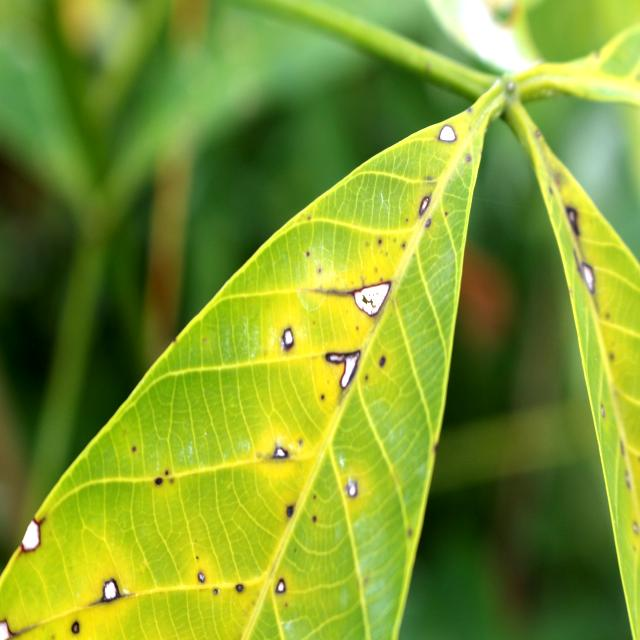Colletotrichum: (352, 280, 392, 317), (325, 349, 361, 388), (21, 516, 42, 552), (103, 578, 119, 602), (438, 125, 457, 142), (418, 196, 429, 217), (283, 328, 294, 348), (273, 446, 288, 460), (276, 578, 286, 594), (348, 481, 357, 498), (198, 573, 207, 584), (72, 622, 80, 632), (236, 584, 243, 593)
